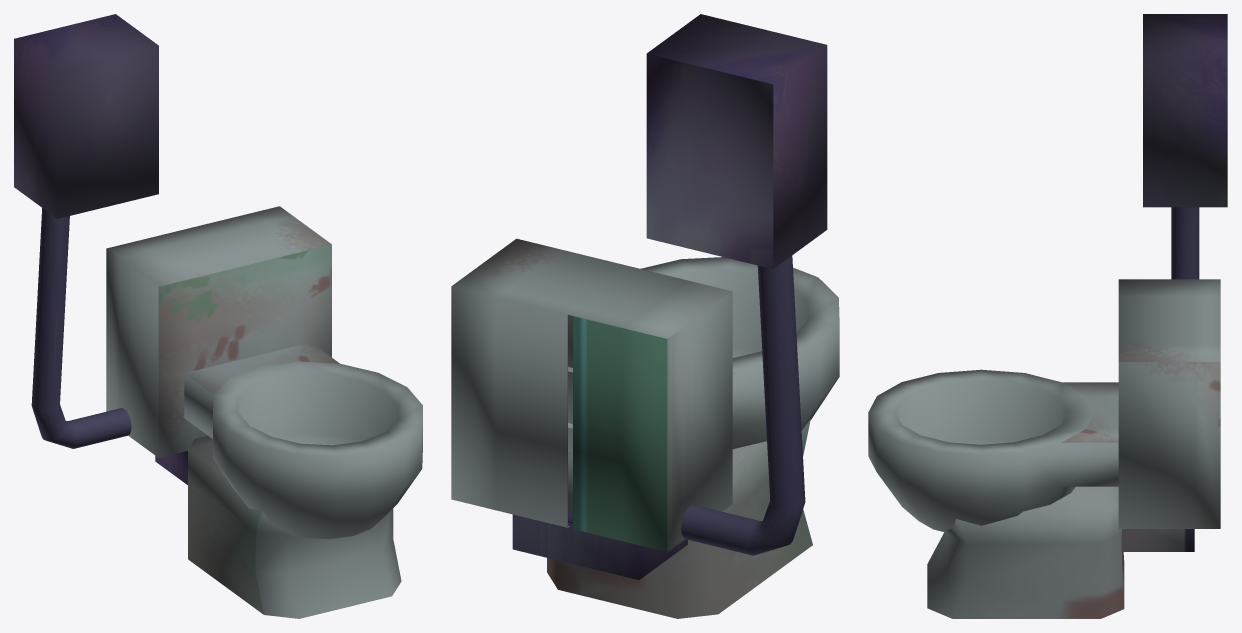
The model's file is Privada.fbx.
3 views of the same model, side by side, from view 1: azimuth 30°, elevation 25°; view 2: azimuth 150°, elevation 25°; view 3: azimuth 270°, elevation 25° (orthographic). The views are drawn at different scales.
Visible parts, largest first — view 1: Privada; view 2: Privada; view 3: Privada.
Part boxes in pixels (x1,y1,x2,y2): Privada: (14, 14, 422, 618); Privada: (451, 14, 839, 618); Privada: (868, 14, 1227, 618).
Size of the model in its own units: 123 by 146 by 218.
